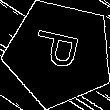P_E: (30, 30, 89, 77)
